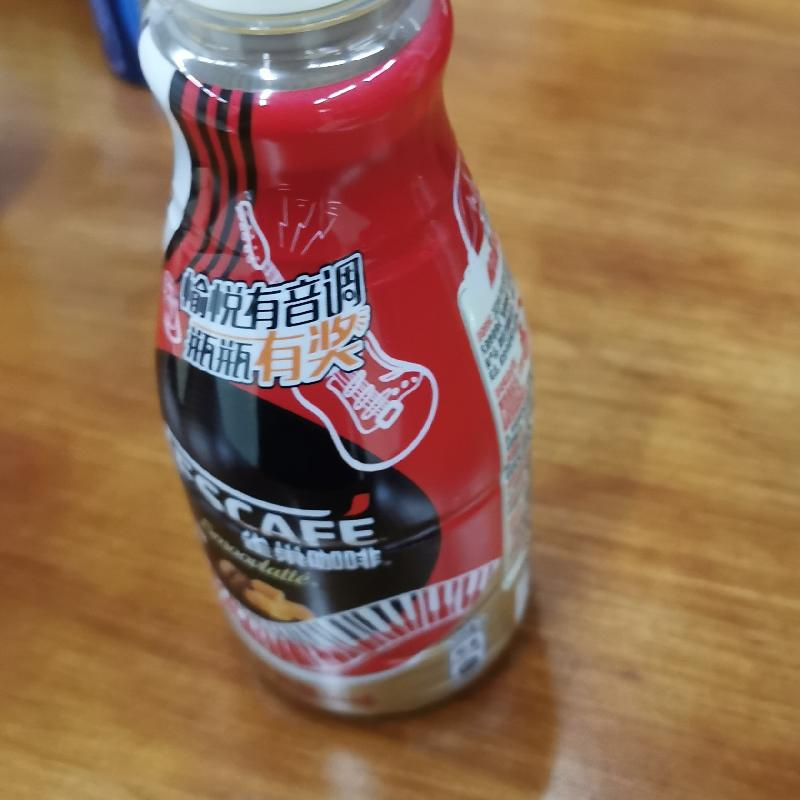bottles: (134, 3, 545, 714)
